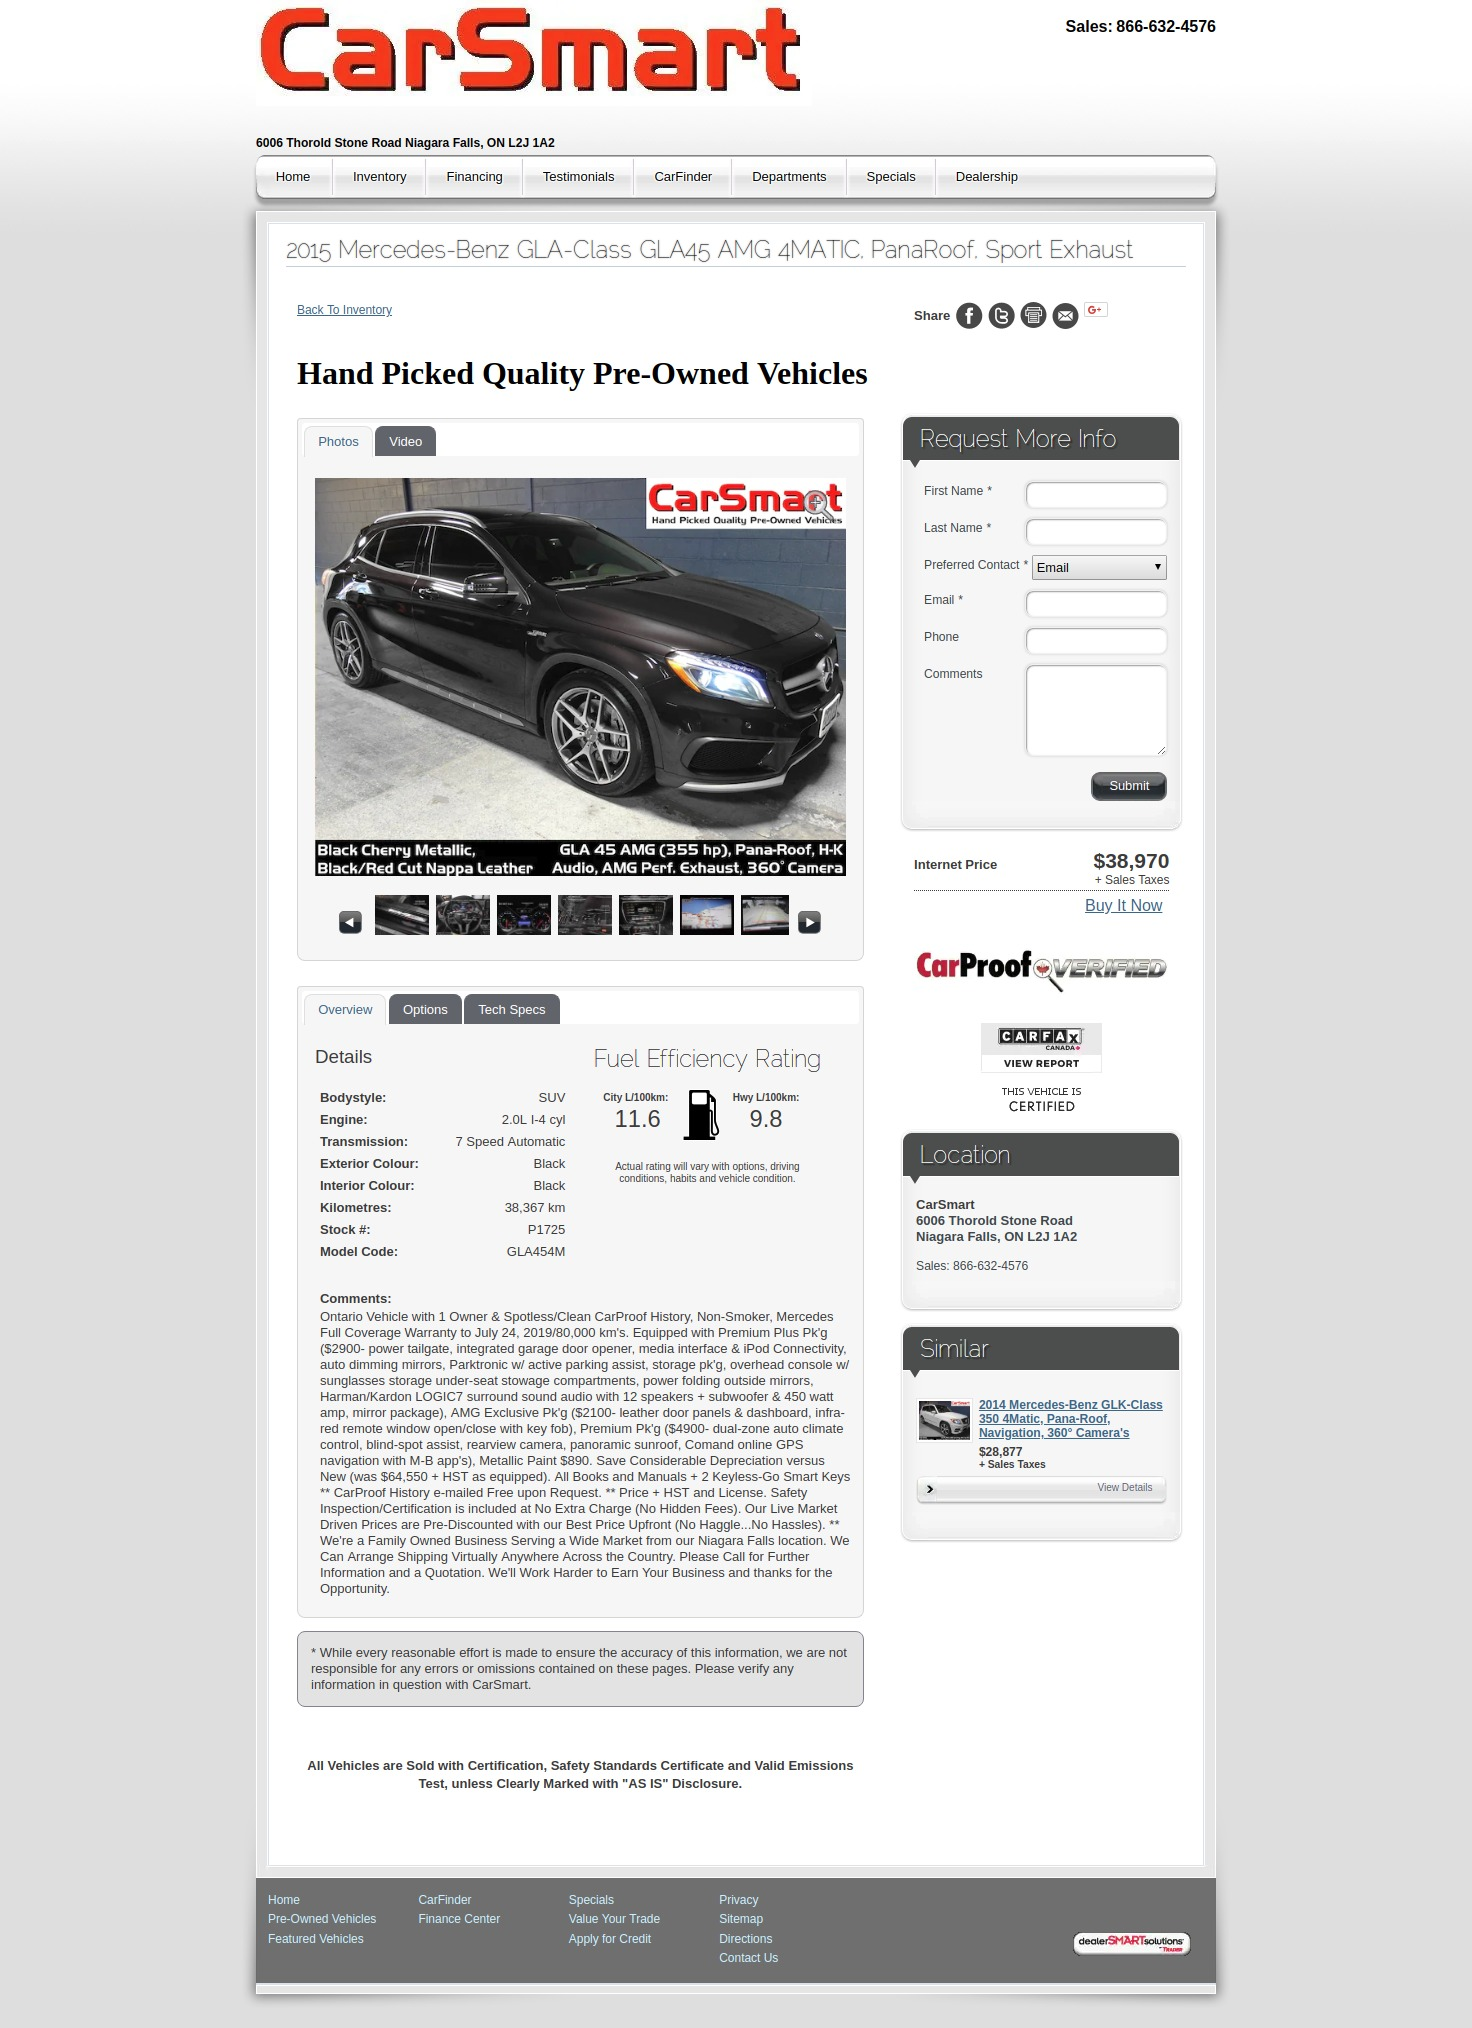car: (797, 910, 823, 935)
